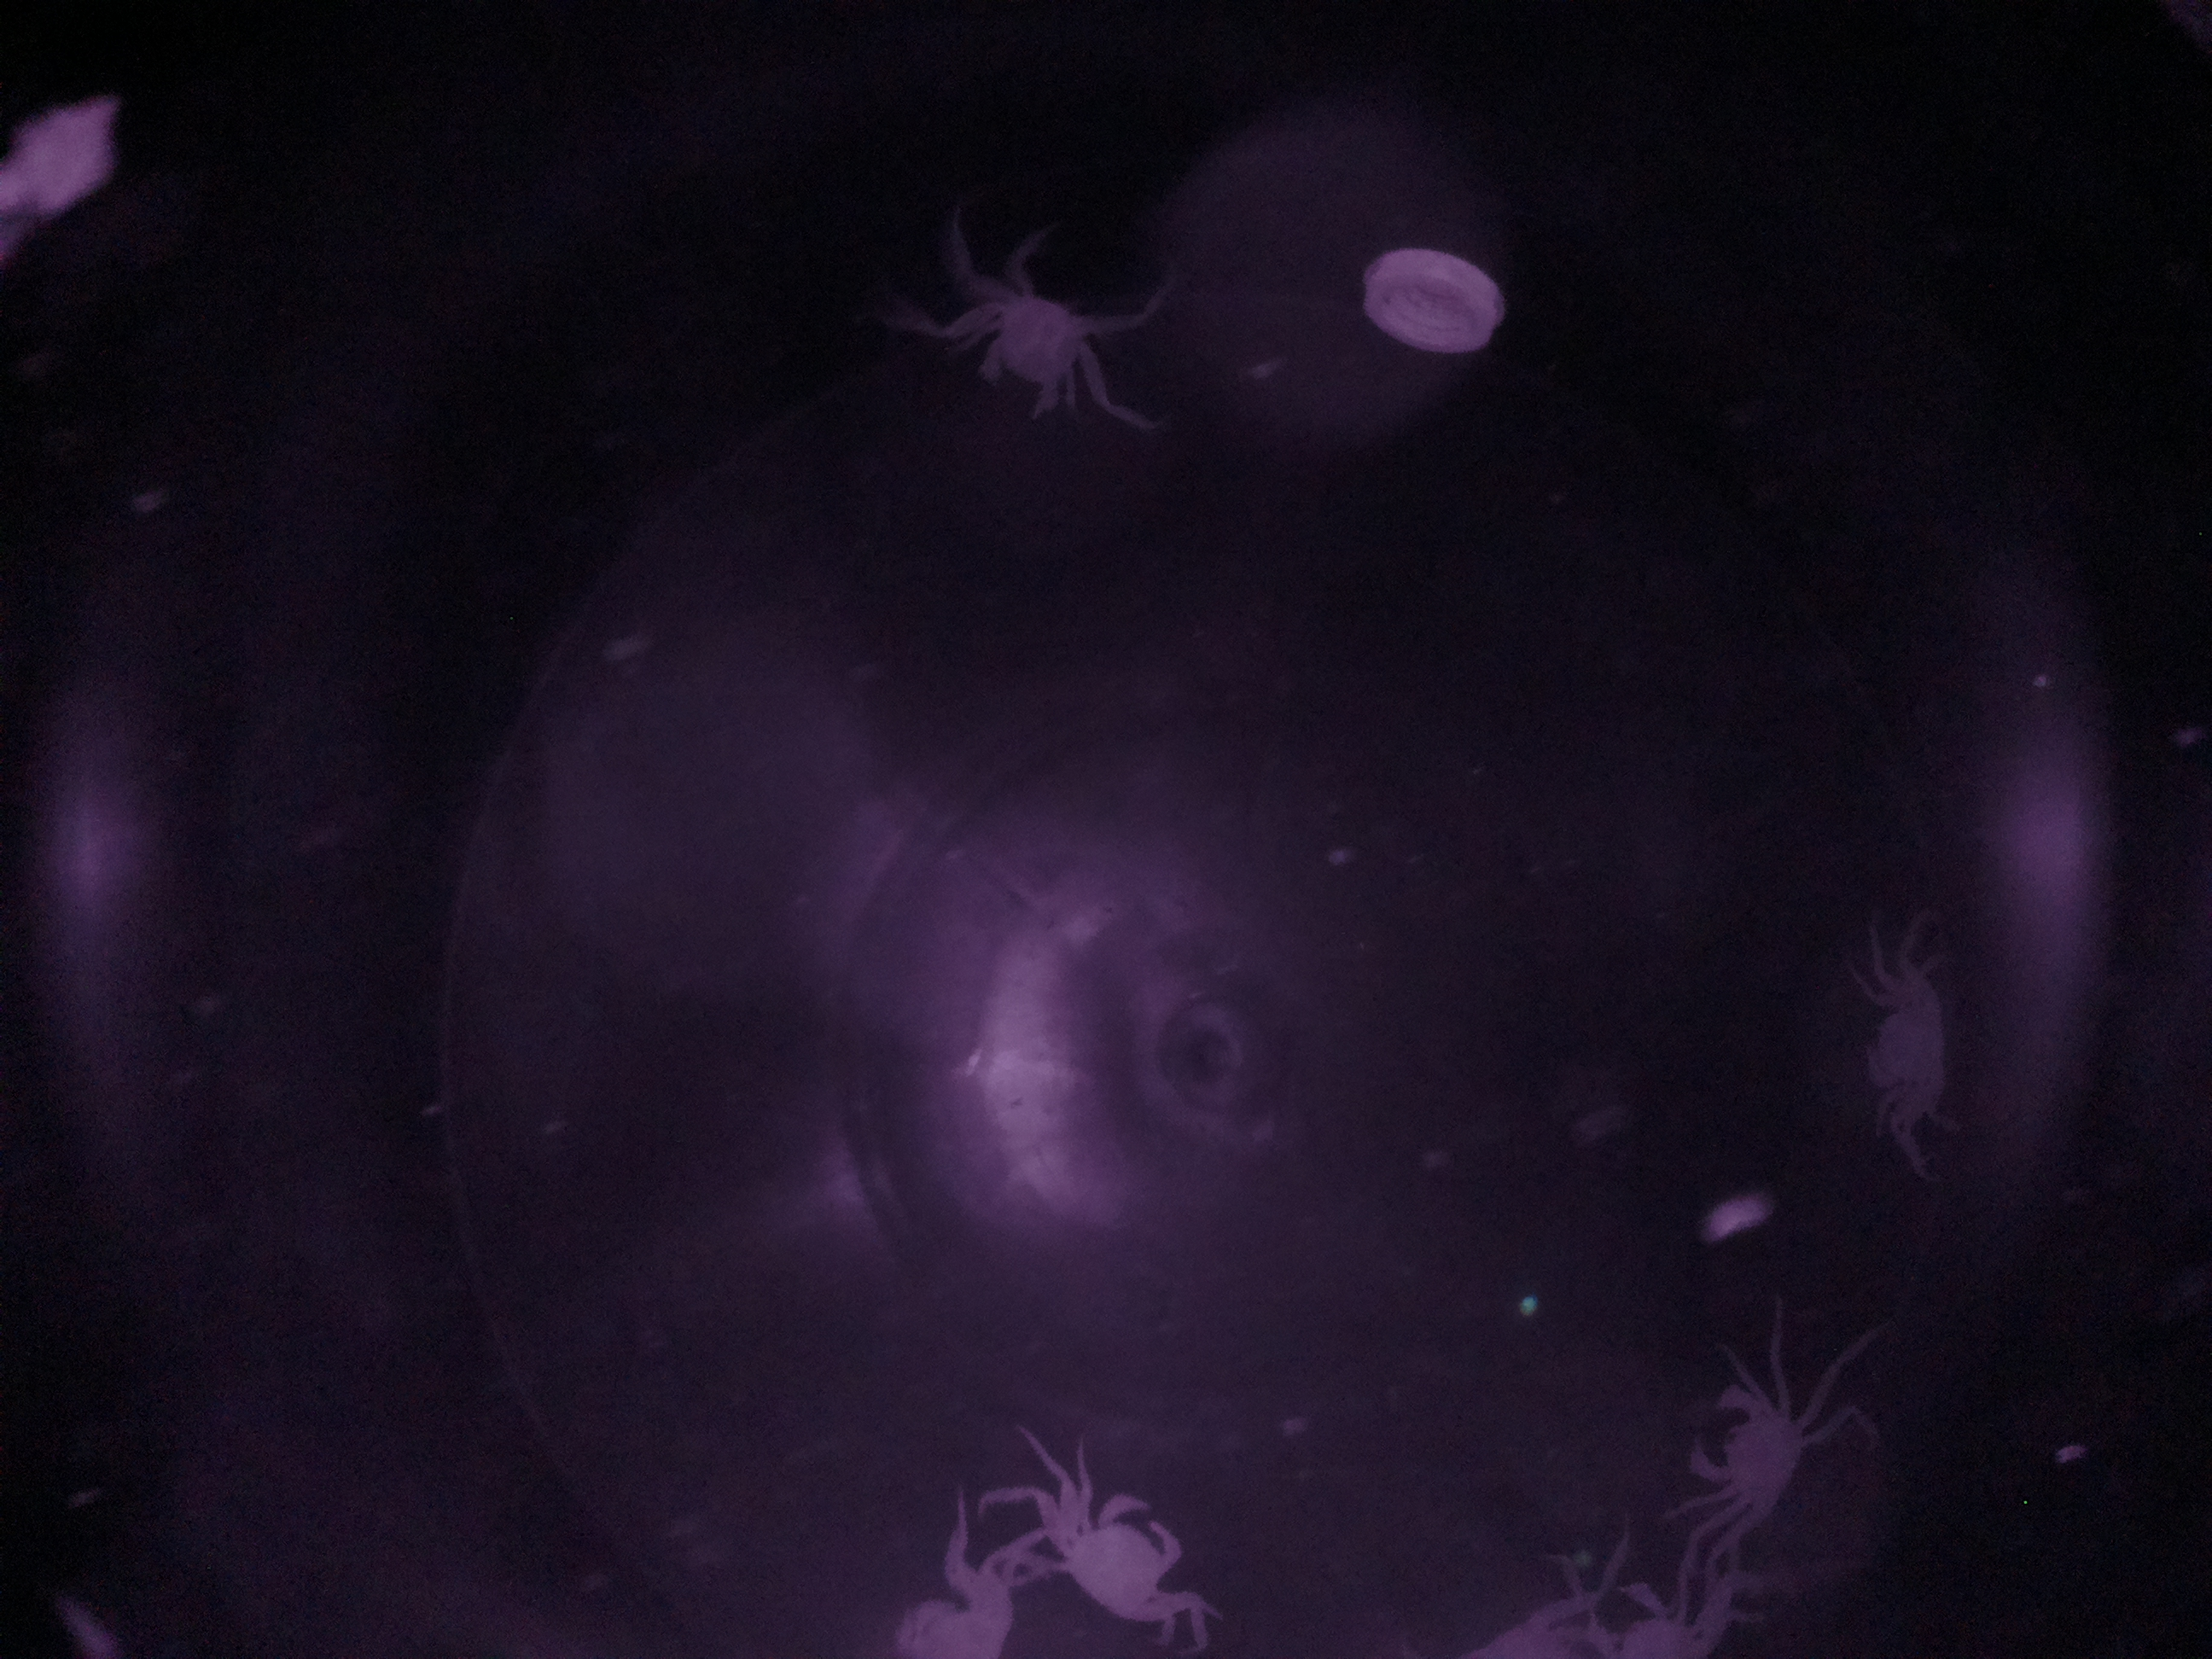Crab: (1035, 1466, 1207, 1642), (948, 260, 1106, 448), (1674, 1356, 1817, 1535)
